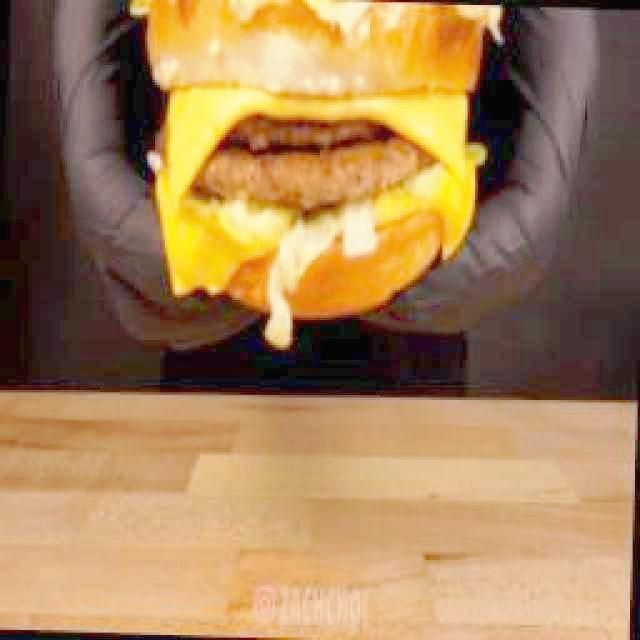burger: (141, 1, 495, 346)
